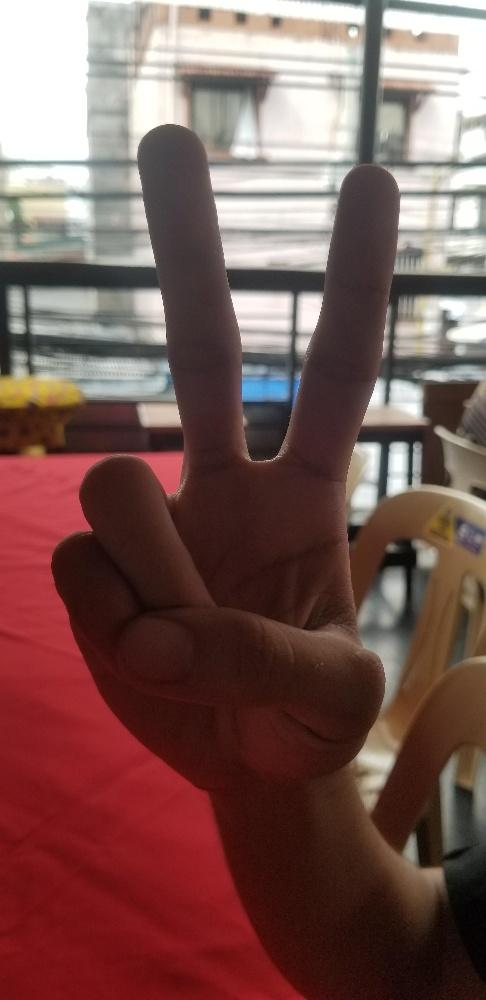v: (43, 117, 403, 795)
